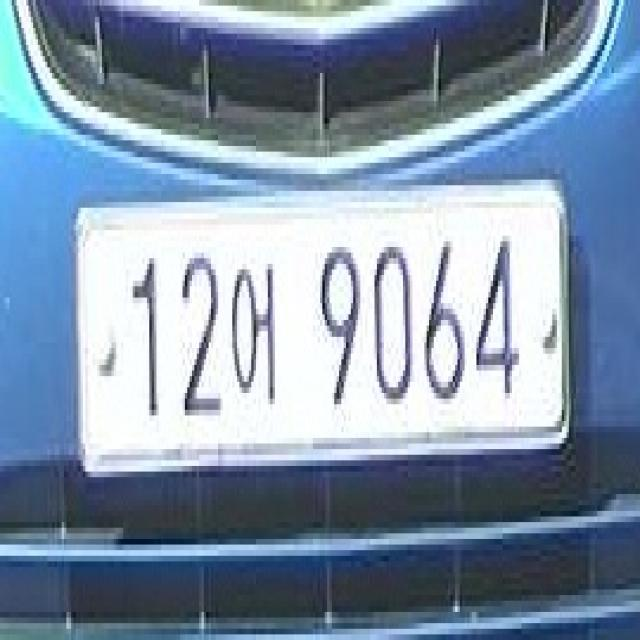0: (370, 241, 417, 410)
1: (128, 236, 164, 427)
2: (178, 247, 225, 427)
4: (474, 224, 522, 410)
6: (422, 236, 467, 410)
9: (315, 241, 363, 421)
eo: (230, 247, 284, 410)
license_plate: (71, 152, 576, 488)
